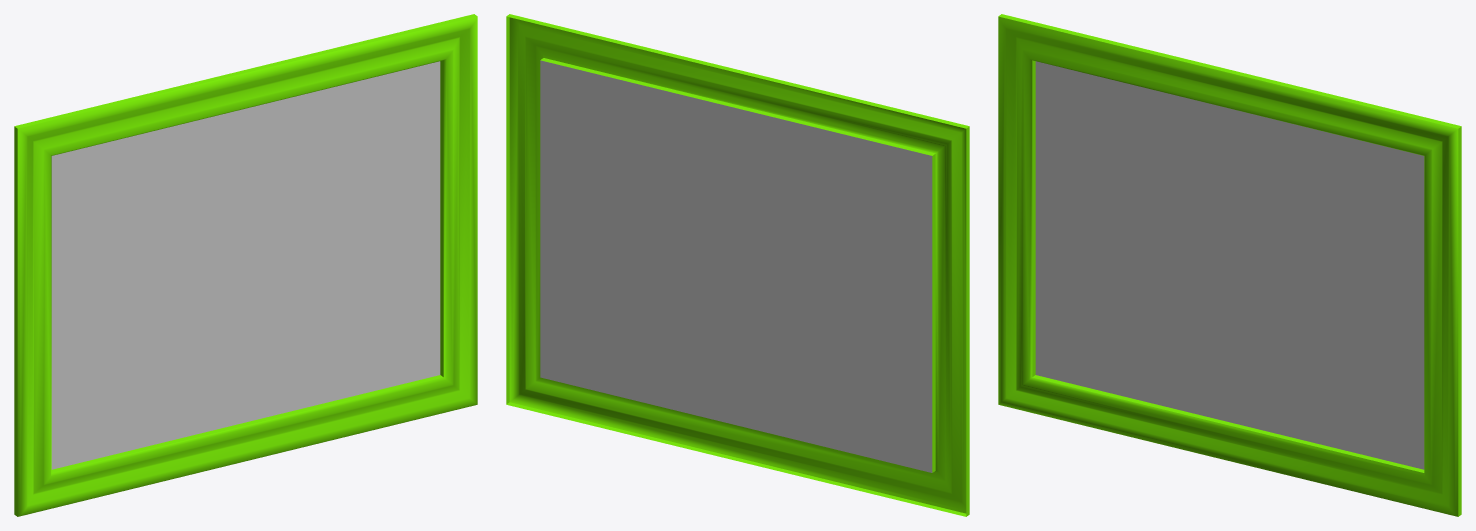
The model's file is painting_3_mesh.fbx.
3 views of the same model, side by side, from view 1: azimuth 30°, elevation 25°; view 2: azimuth 150°, elevation 25°; view 3: azimuth 330°, elevation 25° (orthographic).
Parts seen in each view (by area): view 1: painting; view 2: painting; view 3: painting.
Part boxes in pixels (left/top/right/bottom): painting: left=14, top=14, right=477, bottom=516; painting: left=506, top=14, right=969, bottom=516; painting: left=998, top=14, right=1461, bottom=516.
Bounding box in the file's own units: 1.17 × 0.9456 × 0.02.
